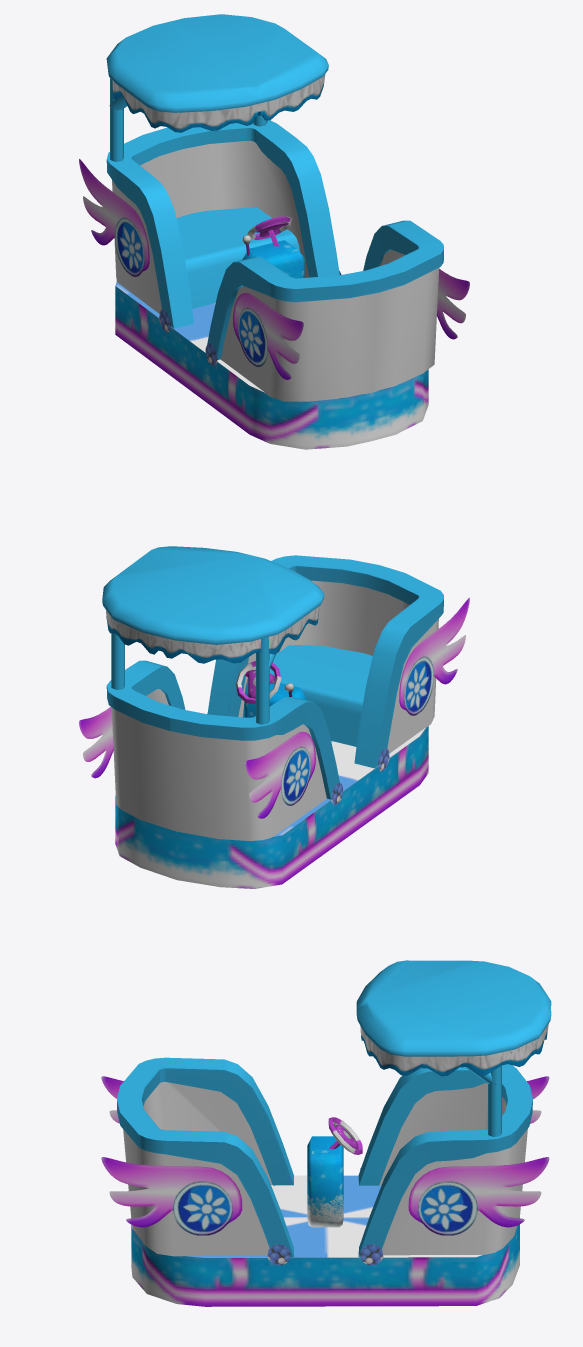
Rendered from ice_car.DAE.
3 views of the same model, one above another, from view 1: azimuth 30°, elevation 25°; view 2: azimuth 150°, elevation 25°; view 3: azimuth 270°, elevation 25° (orthographic).
Parts seen in each view (by area): view 1: ice_car; view 2: ice_car; view 3: ice_car.
Part boxes in pixels (box(x1,y1,x2,y2)): ice_car: box(79, 14, 469, 449); ice_car: box(79, 546, 469, 888); ice_car: box(101, 960, 551, 1306).
Bounding box in the file's own units: 1840 × 3214 × 1706.
Materials: 3 (3 with a texture image).
